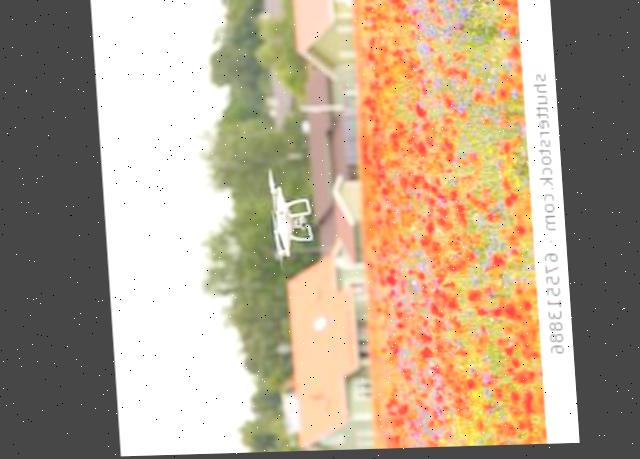drone: (231, 163, 333, 279)
